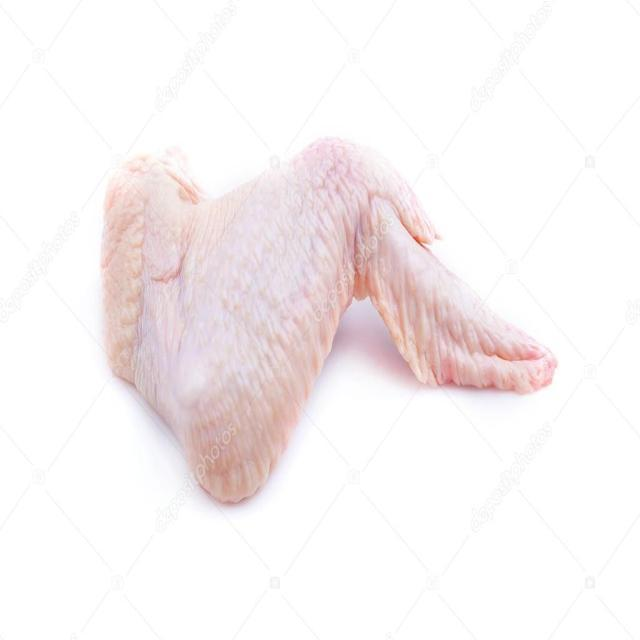wing: (104, 130, 558, 522)
